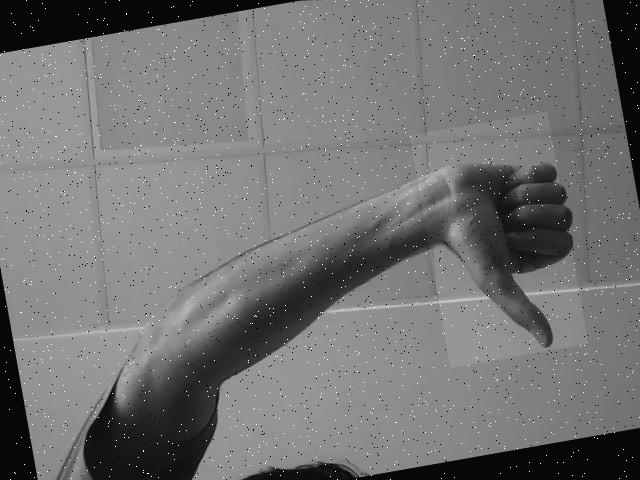bad: (410, 110, 588, 368)
